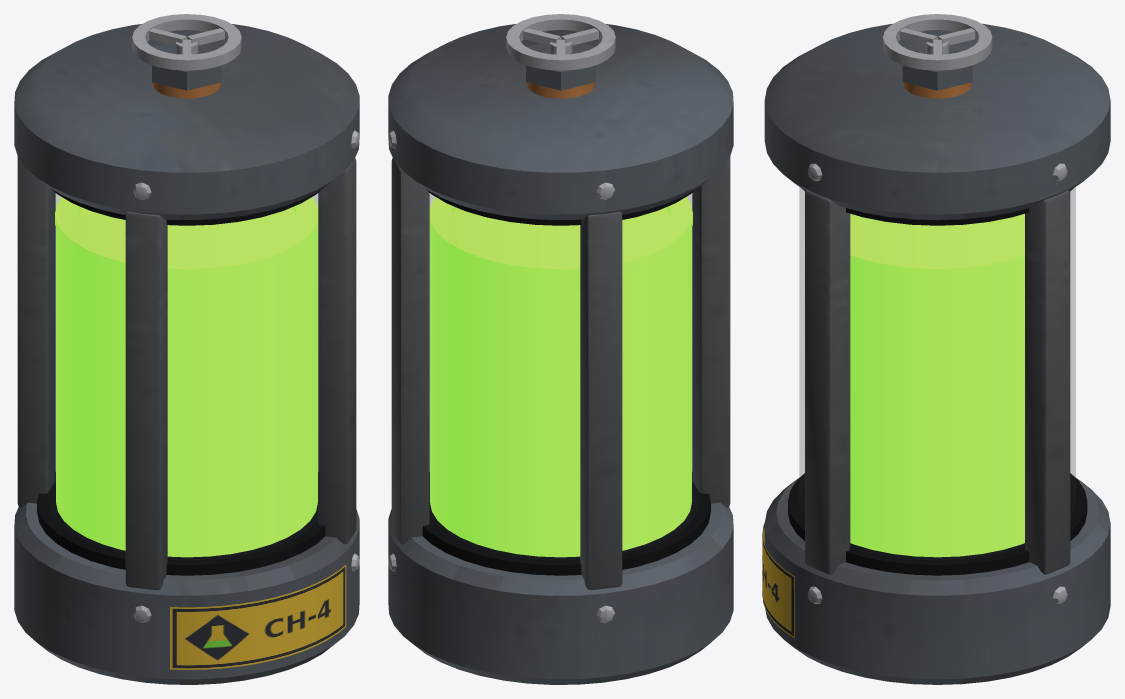
The model's file is chemical.glb.
3 views of the same model, side by side, from view 1: azimuth 30°, elevation 25°; view 2: azimuth 150°, elevation 25°; view 3: azimuth 270°, elevation 25° (orthographic).
Parts seen in each view (by area): view 1: Cell; view 2: Cell; view 3: Cell.
Part boxes in pixels (x1=…): Cell: x1=14, y1=14, x2=359, y2=684; Cell: x1=388, y1=14, x2=733, y2=684; Cell: x1=762, y1=14, x2=1110, y2=684.
Bounding box in the file's own units: 0.12 × 0.222 × 0.1208.
9 materials, 5 textured.
